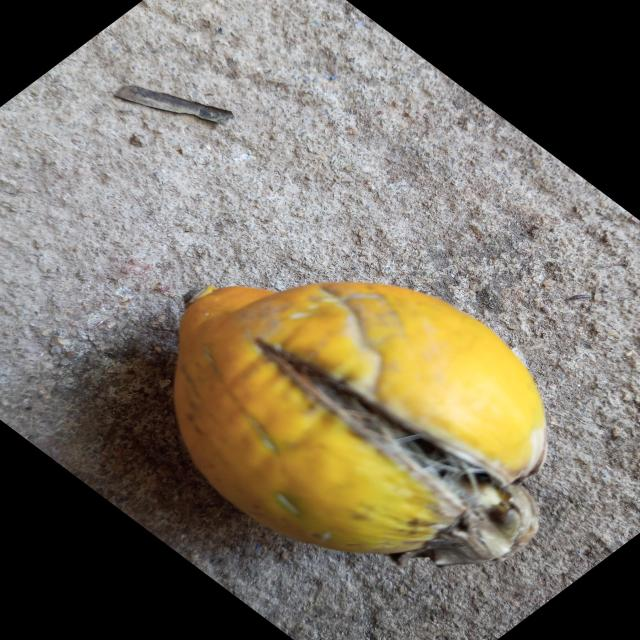damaged: (174, 283, 547, 565)
